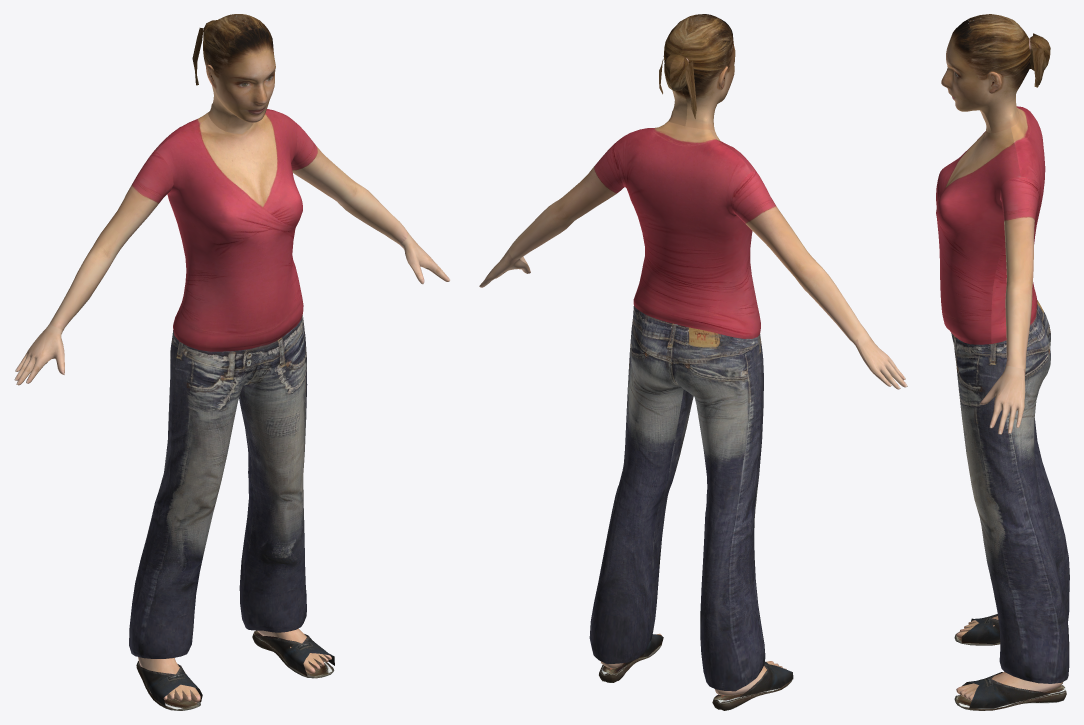
File: Casual_Girl.obj
The picture shows the model from 3 angles, left to right: view 1: azimuth 30°, elevation 25°; view 2: azimuth 150°, elevation 25°; view 3: azimuth 270°, elevation 25°; orthographic projection. The views are drawn at different scales.
Parts seen in each view (by area): view 1: CasualGirl; view 2: CasualGirl; view 3: CasualGirl.
Part boxes in pixels (x1,y1,x2,y2): CasualGirl: (14,14,450,710); CasualGirl: (479,14,907,710); CasualGirl: (936,14,1069,710).
Size of the model in its own units: 2.53 by 3.71 by 0.6874.
1 material, 1 textured.
